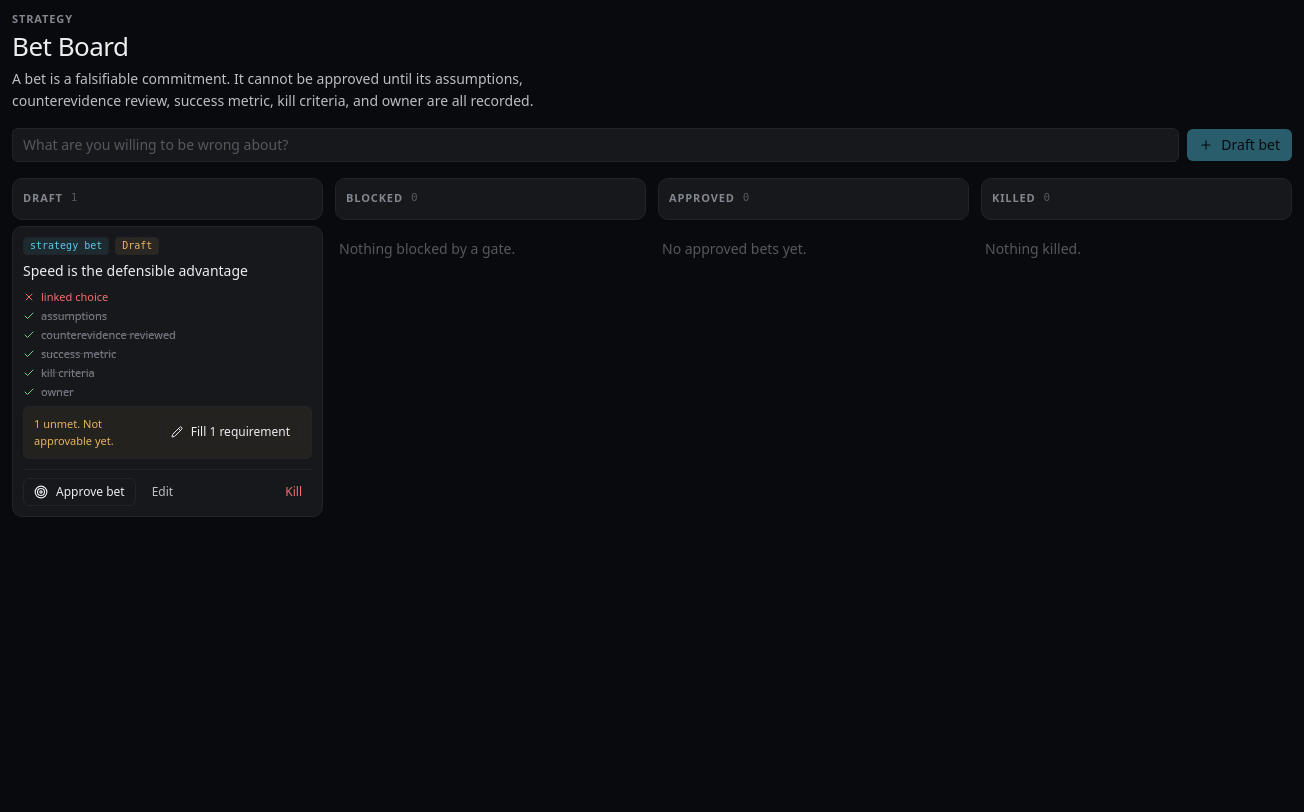
Scenario: BetBoard — draft a bet › keeps the field when the server refuses, so the thesis is not lost
Expected: the link "Speed is the defensible advantage" is shown, [23, 261, 248, 280]
Type "not written anywhere" into the field named "Bet thesis" at (596, 145), box [12, 128, 1179, 162]
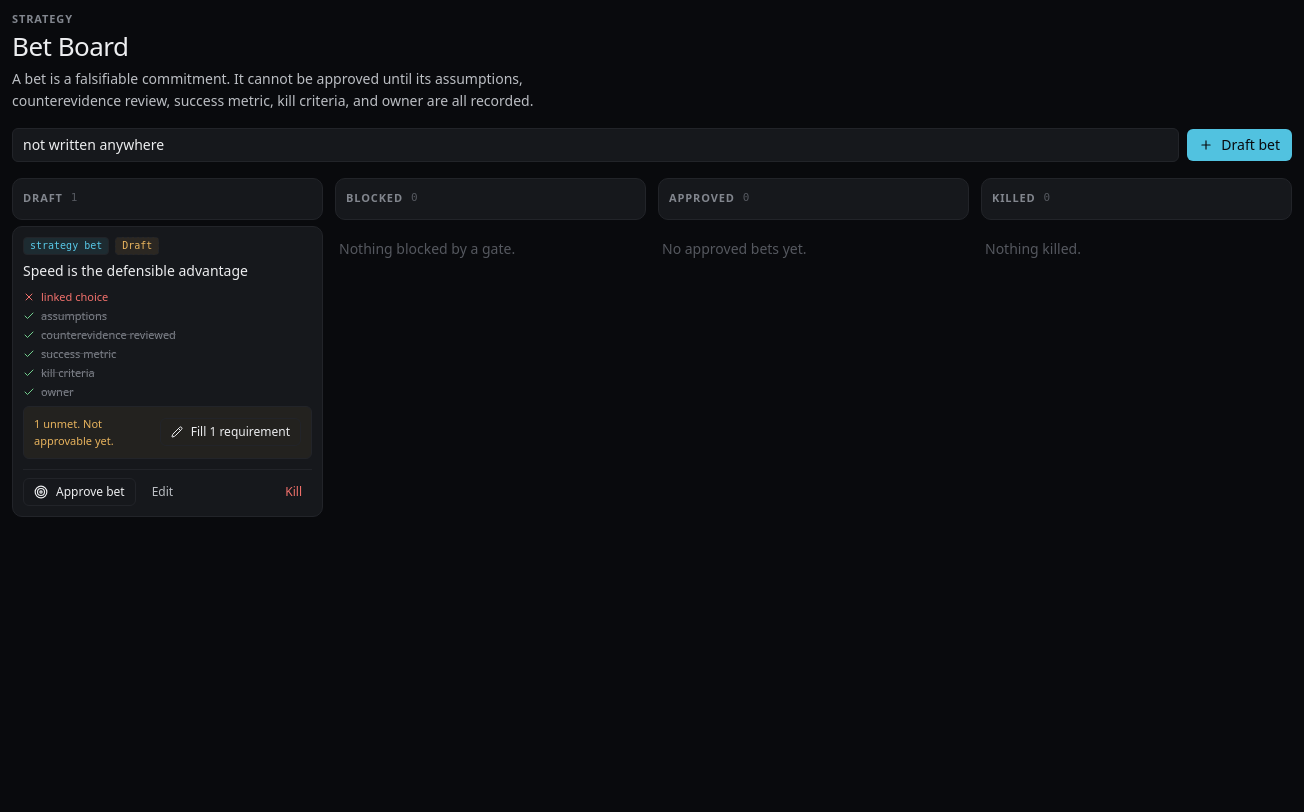
Click the button "Draft bet" at (1240, 145), box [1187, 129, 1292, 161]
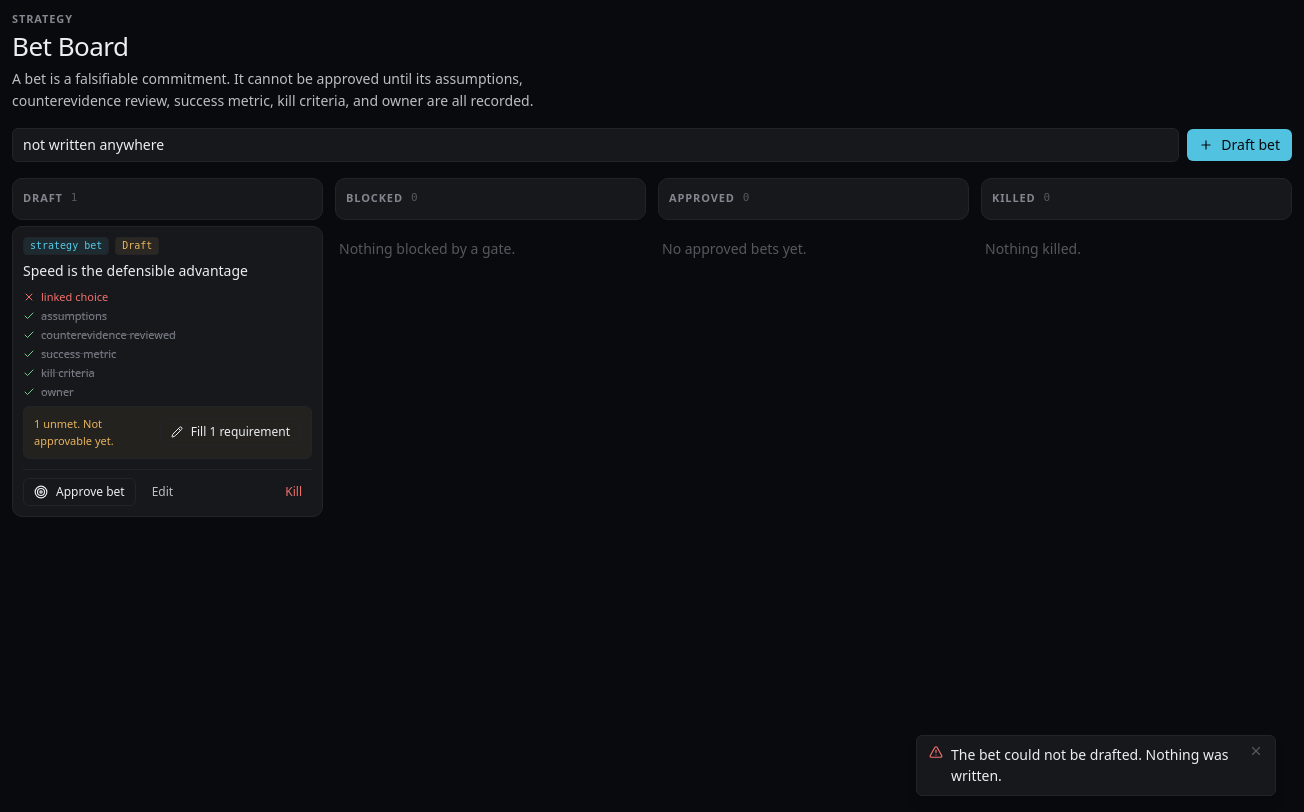
Expected: the text "The bet could not be drafted. Nothing was written." is shown, [951, 744, 1241, 787]
